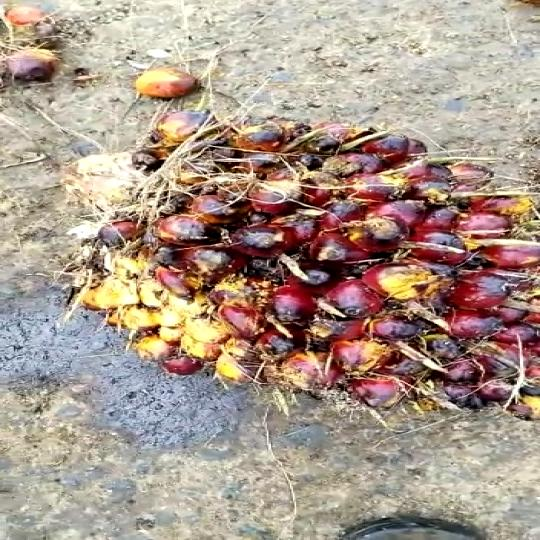kurang masak: (19, 86, 540, 434)
